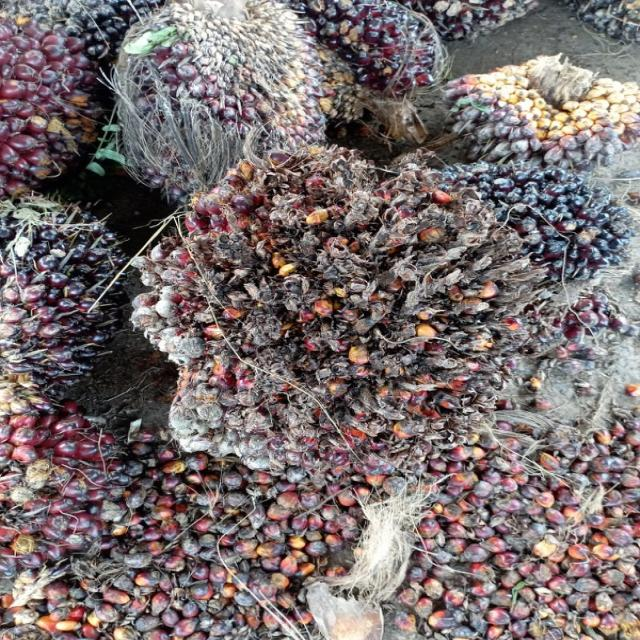fraksi 00: (50, 0, 403, 268)
fraksi 4: (91, 107, 567, 520)
